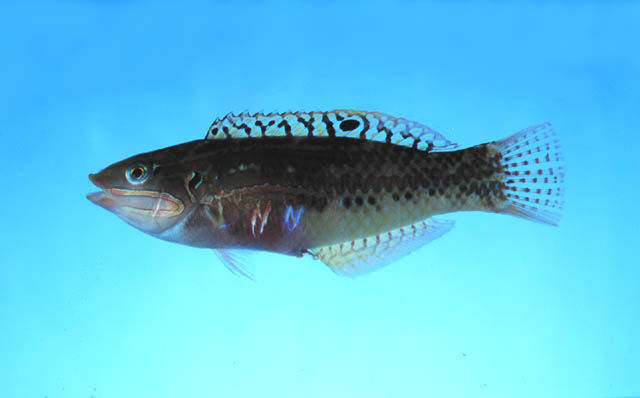fish: (85, 109, 566, 281)
